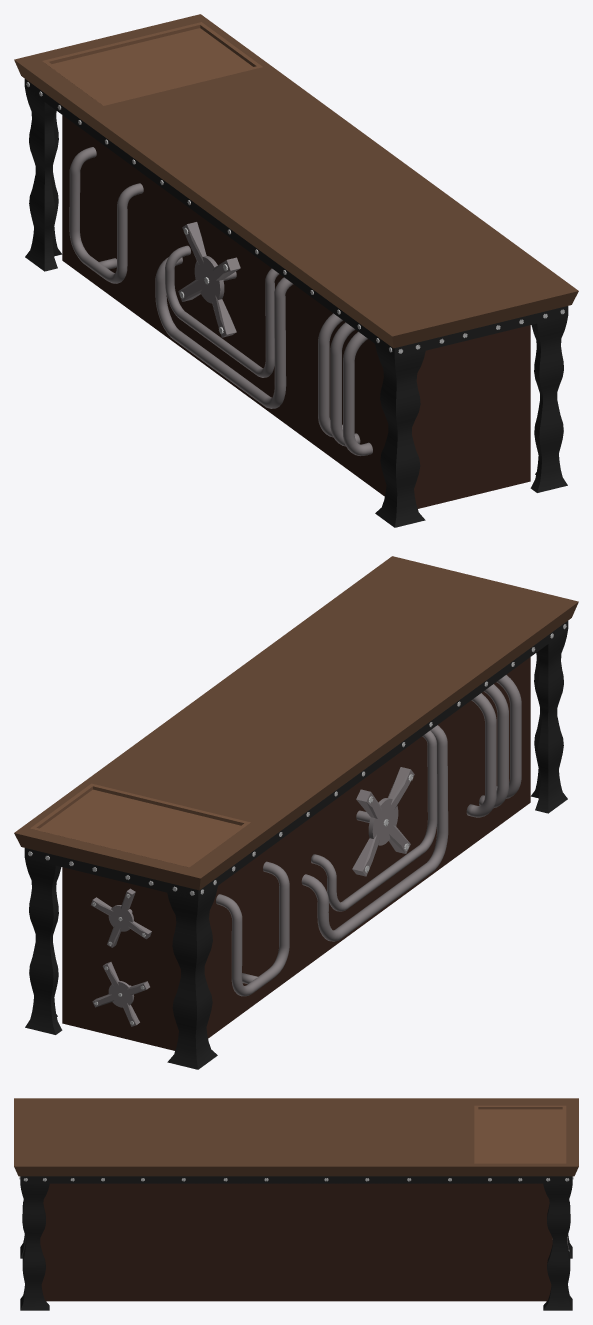
Rendered from bar.fbx.
3 renders of one model, top to bottom at view 1: azimuth 30°, elevation 25°; view 2: azimuth 150°, elevation 25°; view 3: azimuth 270°, elevation 25°, orthographic. The views are drawn at different scales.
Parts seen in each view (by area): view 1: govde, bar_ust.002, bar_ust.001; view 2: govde, bar_ust.002, bar_ust.001; view 3: govde, bar_ust.002, bar_ust.001.
Boxes of the visible parts, x1,y1,x2,y2 form: govde: (24,71,578,527); bar_ust.002: (42,22,262,105); bar_ust.001: (14,14,278,131); govde: (24,556,578,1069); bar_ust.002: (30,783,250,867); bar_ust.001: (14,775,278,890); govde: (14,1098,573,1310); bar_ust.002: (474,1105,566,1163); bar_ust.001: (459,1098,578,1176).
Size of the model in its own units: 369 by 371 by 1296.
